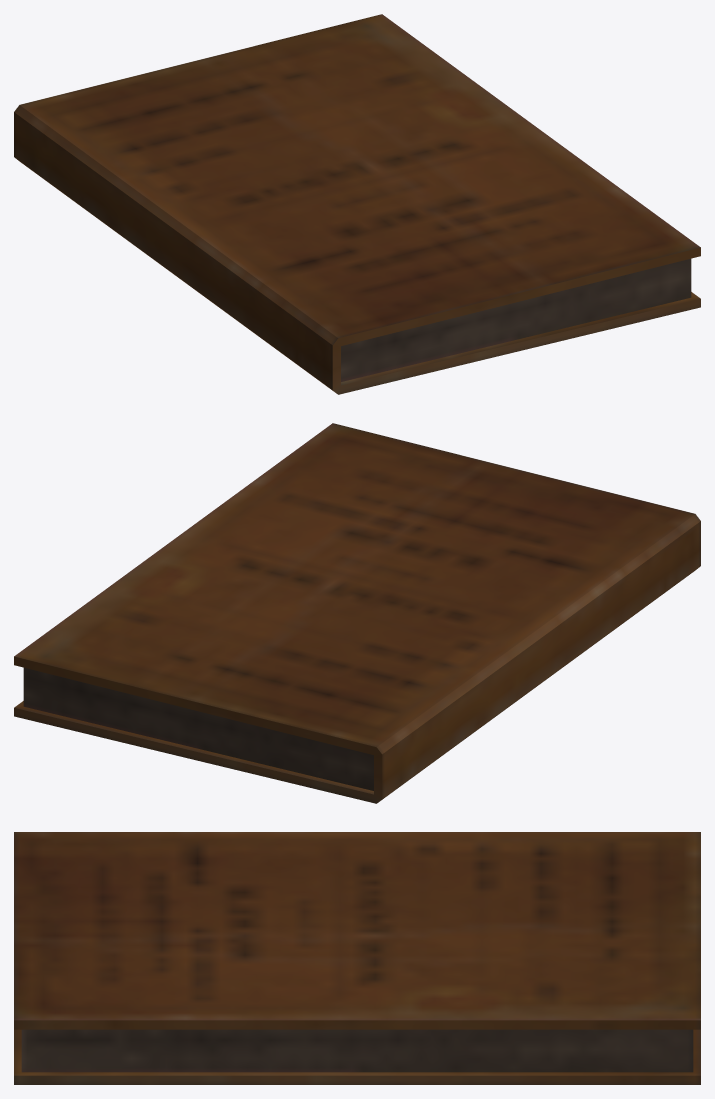
File: book_mp_9.fbx
The picture shows the model from 3 angles, top to bottom: view 1: azimuth 30°, elevation 25°; view 2: azimuth 150°, elevation 25°; view 3: azimuth 270°, elevation 25°; orthographic projection. The views are drawn at different scales.
Parts seen in each view (by area): view 1: book_mp_9; view 2: book_mp_9; view 3: book_mp_9.
Boxes of the visible parts, <box> form: book_mp_9: <box>14,14,700,394</box>; book_mp_9: <box>14,423,700,803</box>; book_mp_9: <box>14,832,700,1084</box>.
Size of the model in its own units: 0.18 by 0.028 by 0.27.
Materials: 1 (1 with a texture image).
